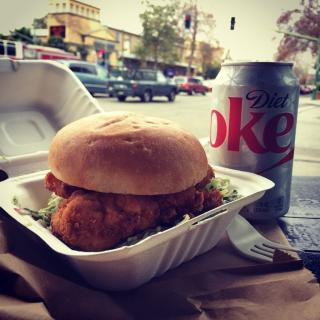Hamburger: (14, 108, 242, 251)
